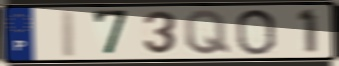1: (295, 8, 323, 55)
3: (141, 10, 178, 56)
7: (91, 9, 130, 58)
I: (60, 9, 77, 59)
O: (234, 7, 278, 57)
Q: (182, 9, 233, 57)
